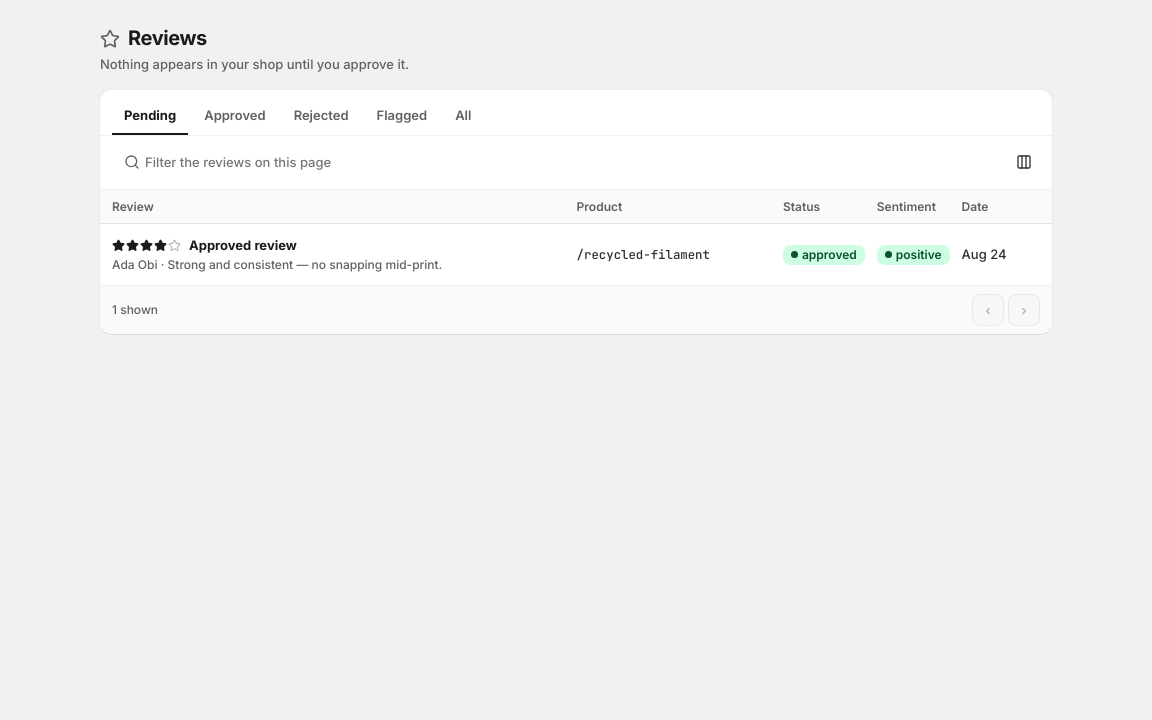
Scenario: the review thread › offers moderation on CUSTOMER replies only — an owner reply is approved at birth
Click the text "Approved review".
click(243, 245)  # box [189,236,297,255]
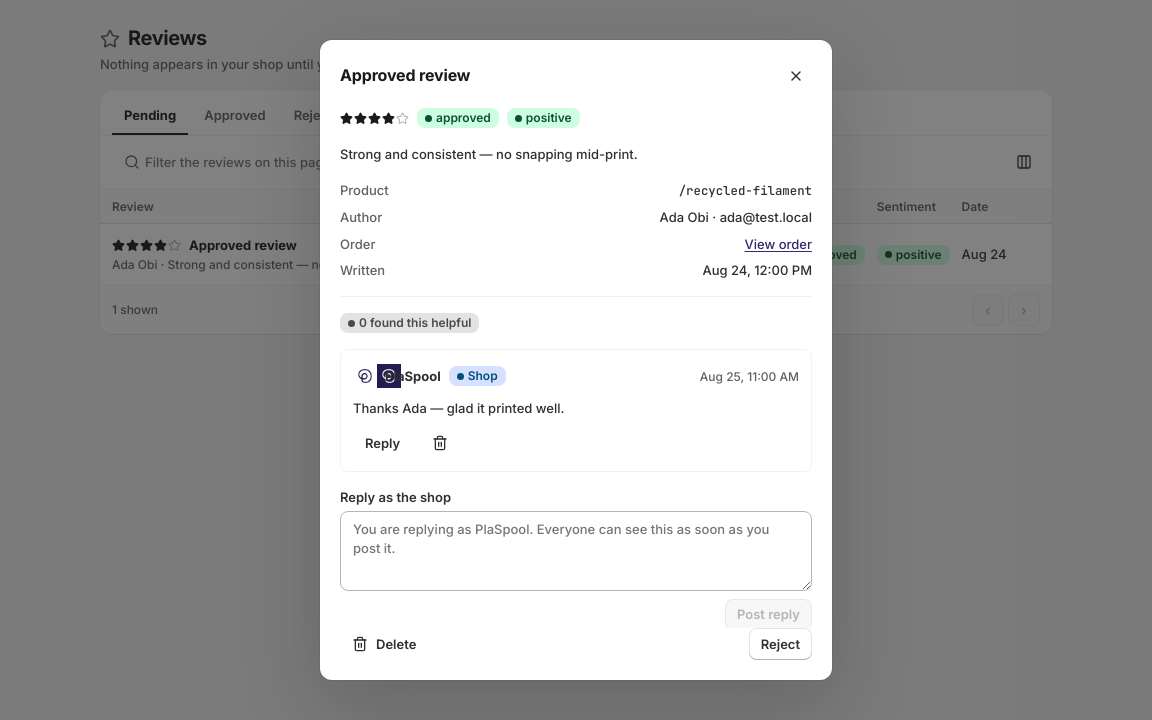
Check: the text "PlaSpool" is shown, box [385,367,441,386]
Check: the button "Reply" is shown, box [353,427,412,459]
